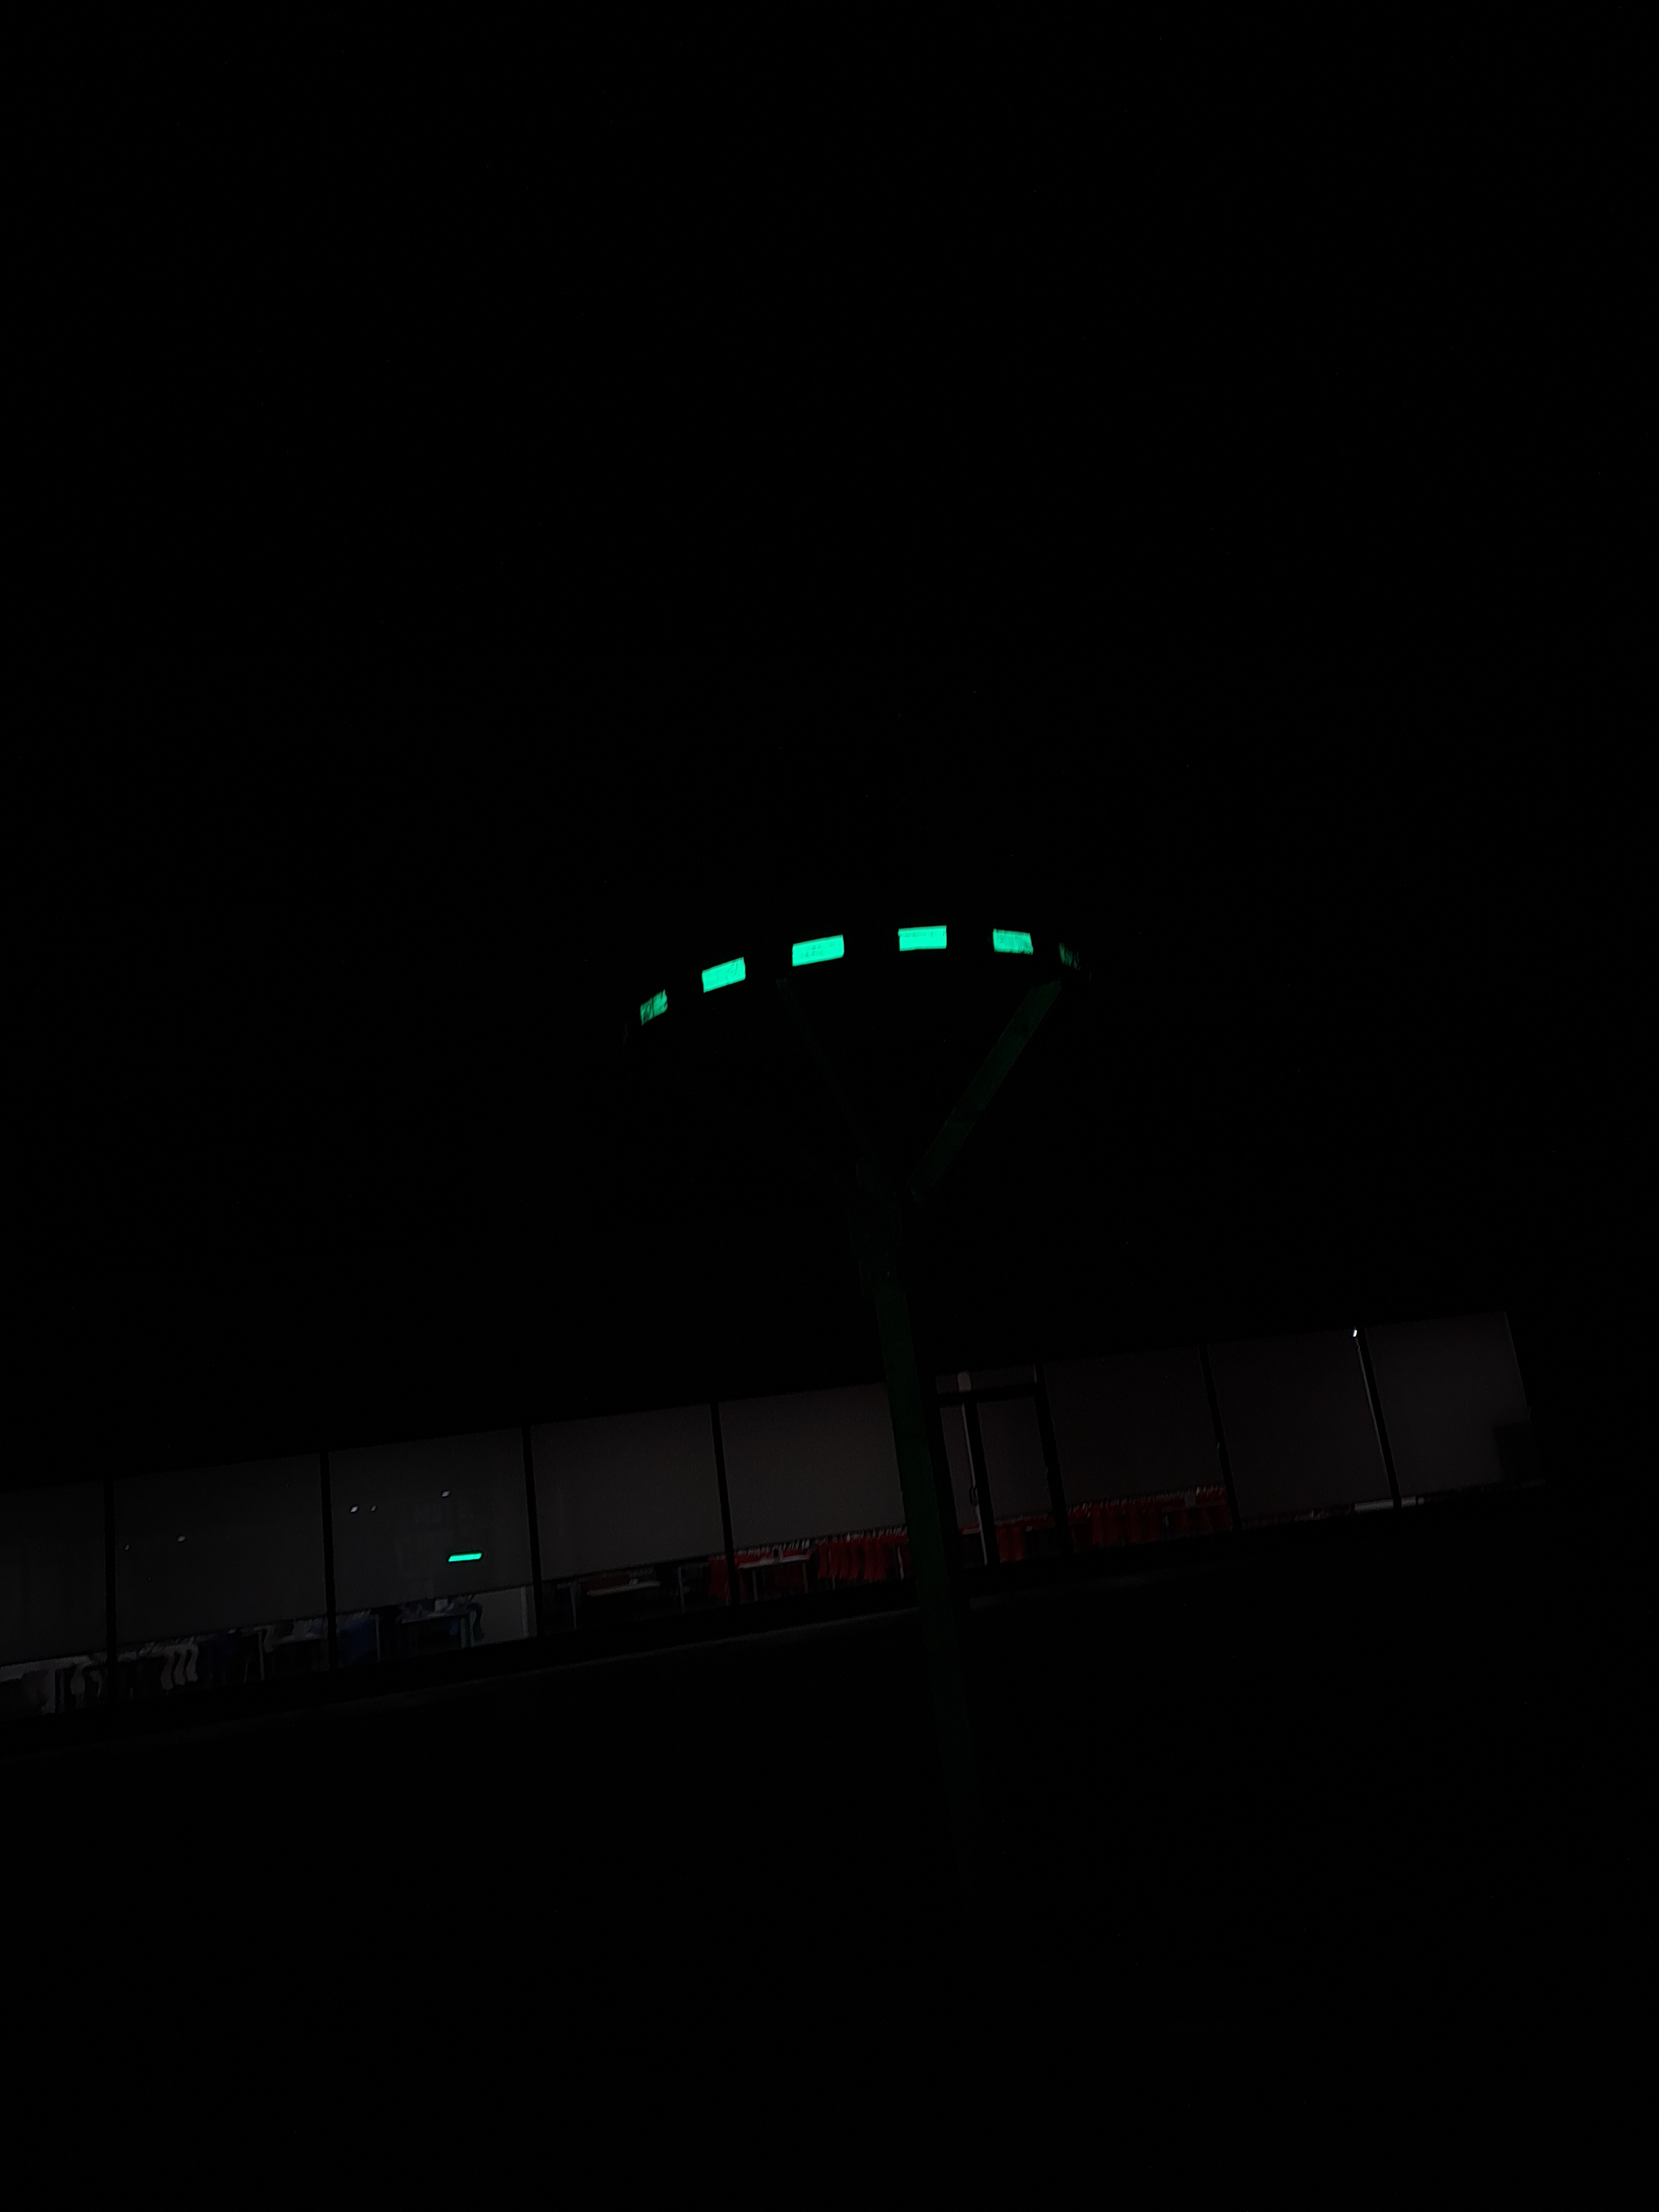hoop: (634, 920, 1040, 1035)
